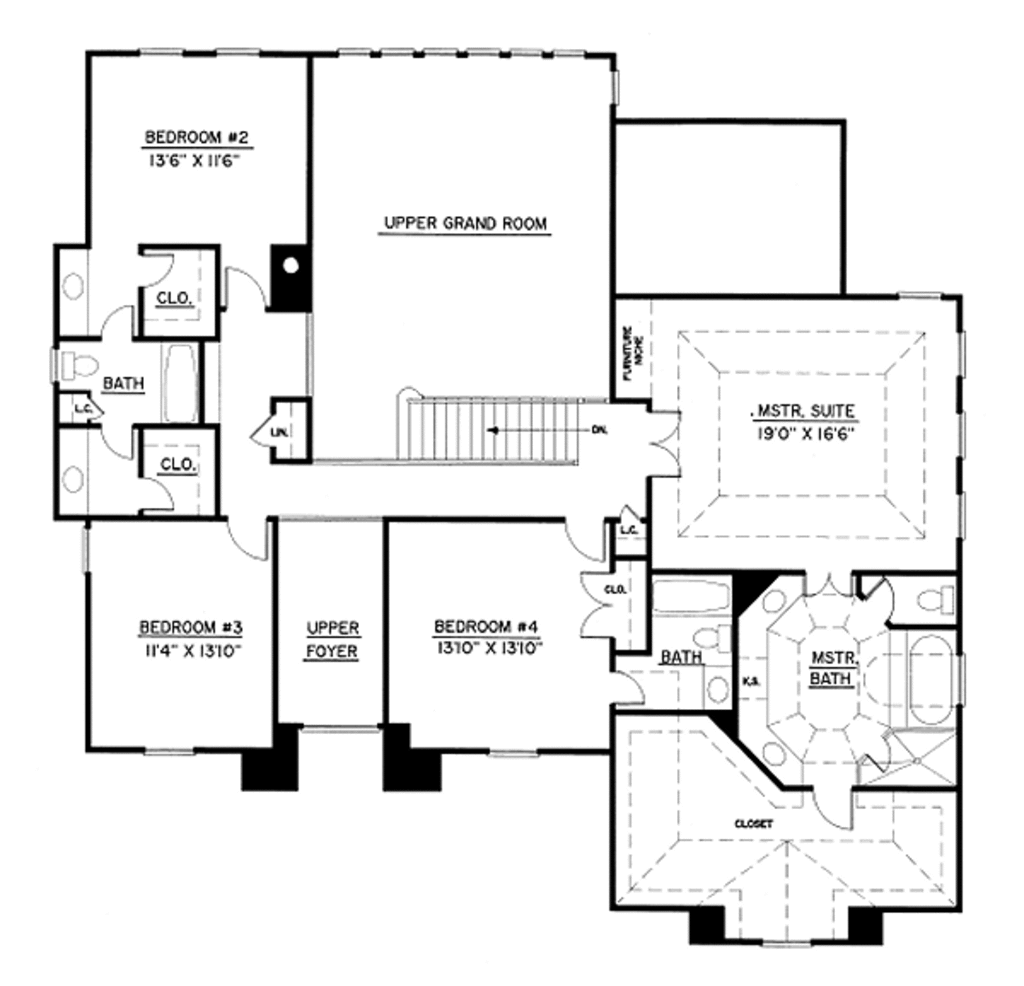door: (806, 782, 860, 837), (643, 408, 683, 479), (221, 517, 278, 562), (580, 568, 612, 644), (560, 519, 613, 564), (220, 262, 265, 312), (132, 245, 179, 291), (94, 300, 143, 343), (801, 568, 853, 603), (135, 474, 175, 514), (610, 667, 644, 713), (95, 424, 135, 461), (864, 579, 894, 620), (863, 735, 892, 773)
large_sink: (907, 580, 956, 618), (690, 621, 728, 661)
small_sink: (740, 725, 801, 788), (57, 249, 92, 345), (57, 426, 88, 511), (751, 581, 796, 624), (701, 662, 735, 711)
stairs: (391, 386, 582, 468)
tub: (903, 630, 959, 728), (647, 572, 732, 619)
window: (297, 722, 386, 740), (136, 744, 196, 762), (479, 749, 546, 764)
